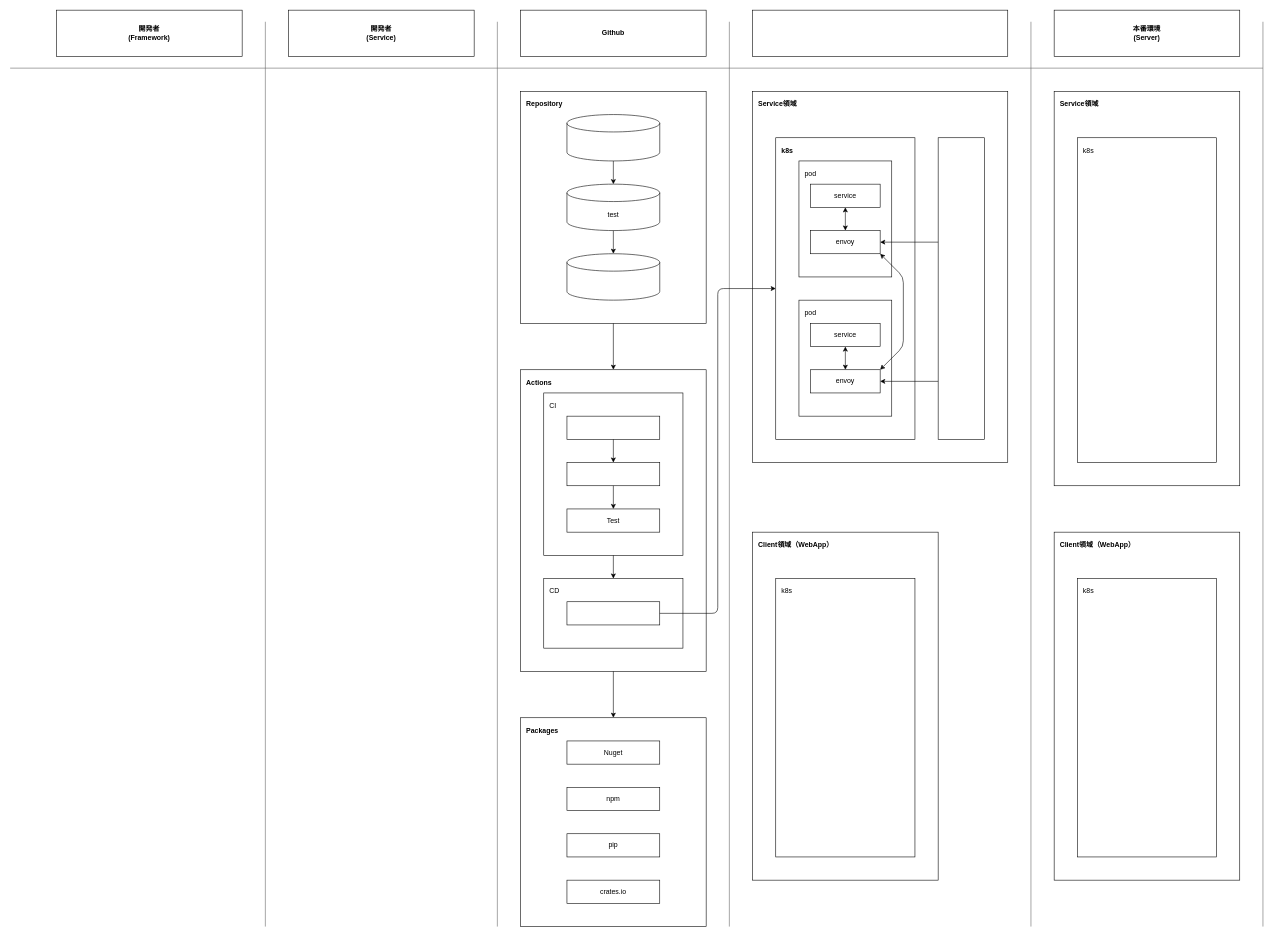
Some shapes in this 1274 by 937 pixel diagram are drawn without their labels. The centre of each missing label's shape, as x and y in pixels:
"Build" belongs at (613,474).
"Deploy" belongs at (613,613).
"feature" belongs at (613,137).
"istio" belongs at (961,288).
"prod" belongs at (613,276).
"検証環境 (Server)" belongs at (880,33).
"静的解析" belongs at (613,427).
